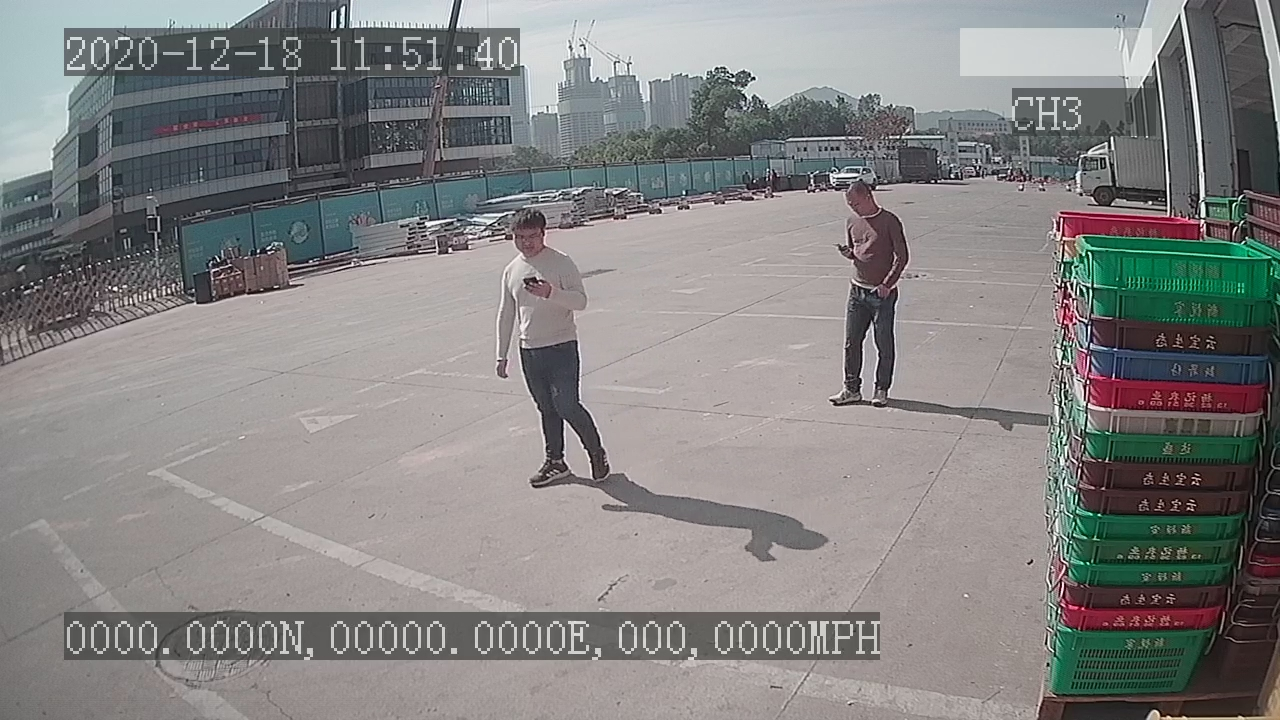person: (490, 206, 618, 492), (827, 174, 917, 415)
